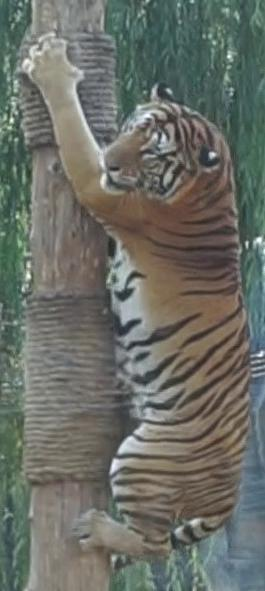tiger: (22, 39, 249, 554)
